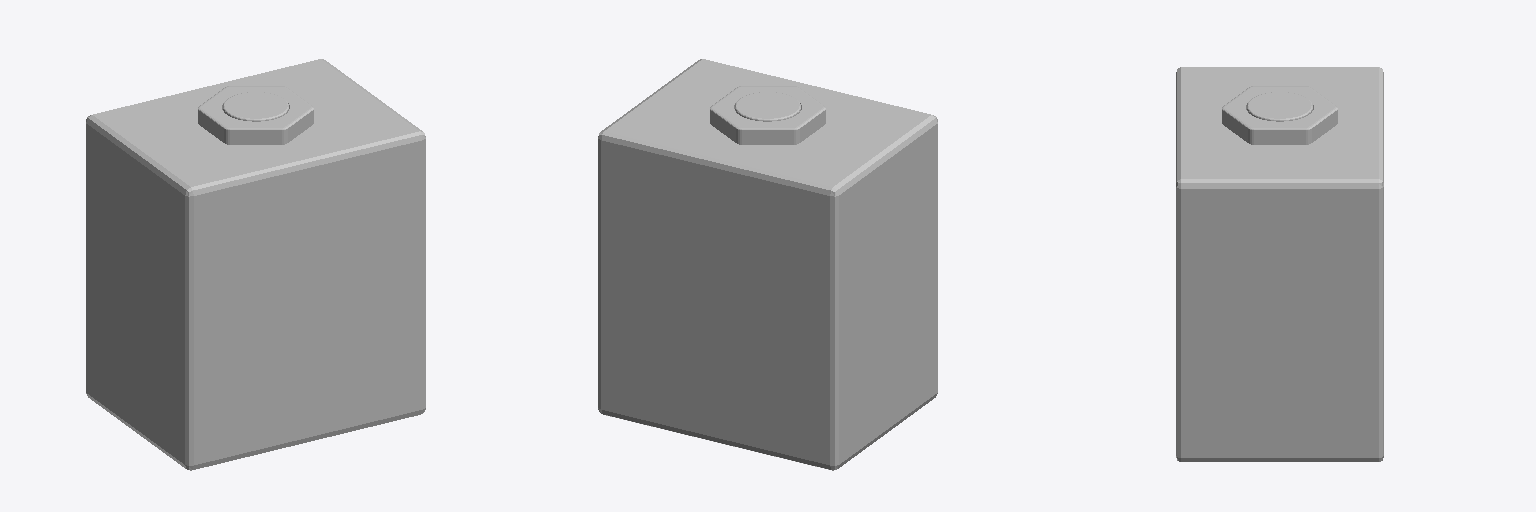
Rendered from plc s.obj.
3 renders of one model, left to right at view 1: azimuth 30°, elevation 25°; view 2: azimuth 150°, elevation 25°; view 3: azimuth 270°, elevation 25°, orthographic.
Visible parts, largest first — view 1: PLC1.014_plc1.015; view 2: PLC1.014_plc1.015; view 3: PLC1.014_plc1.015.
Part boxes in pixels (x1,y1,x2,y2): PLC1.014_plc1.015: (86,59,425,470); PLC1.014_plc1.015: (598,59,937,470); PLC1.014_plc1.015: (1176,67,1383,461).
Size of the model in its own units: 0.4 by 0.4779 by 0.3.